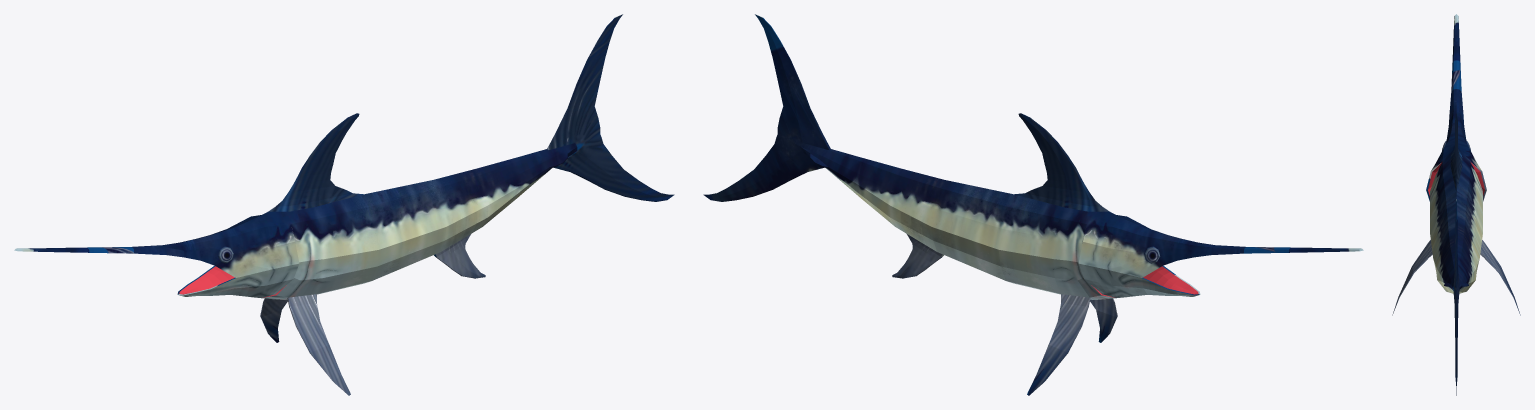
File: swordfish.fbx
3 views of the same model, side by side, from view 1: azimuth 30°, elevation 25°; view 2: azimuth 150°, elevation 25°; view 3: azimuth 270°, elevation 25° (orthographic). The views are drawn at different scales.
Parts seen in each view (by area): view 1: openmouh; view 2: openmouh; view 3: openmouh.
Part boxes in pixels (bbox=[...]): openmouh: bbox=[14, 14, 674, 395]; openmouh: bbox=[703, 14, 1363, 395]; openmouh: bbox=[1392, 14, 1520, 395].
Bounding box in the file's own units: 954 × 386 × 180.
